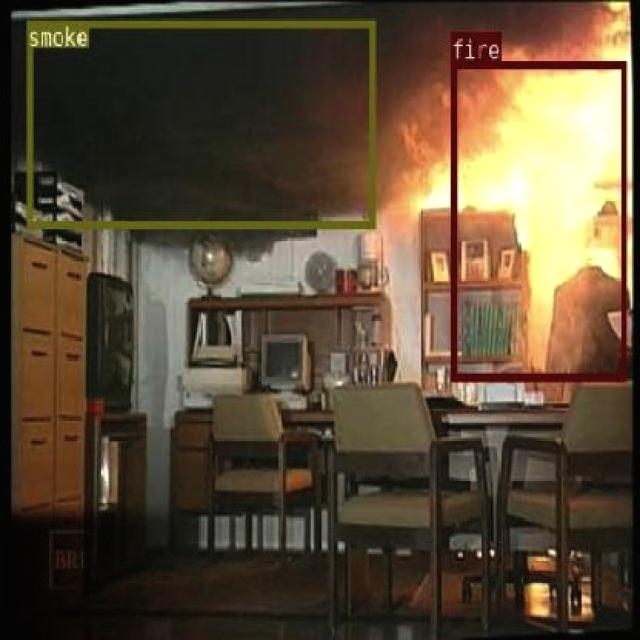fire: (450, 58, 626, 380)
smoke: (26, 18, 374, 226)
